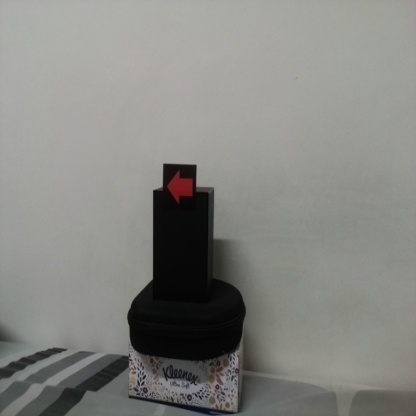id_4: (164, 164, 196, 210)
